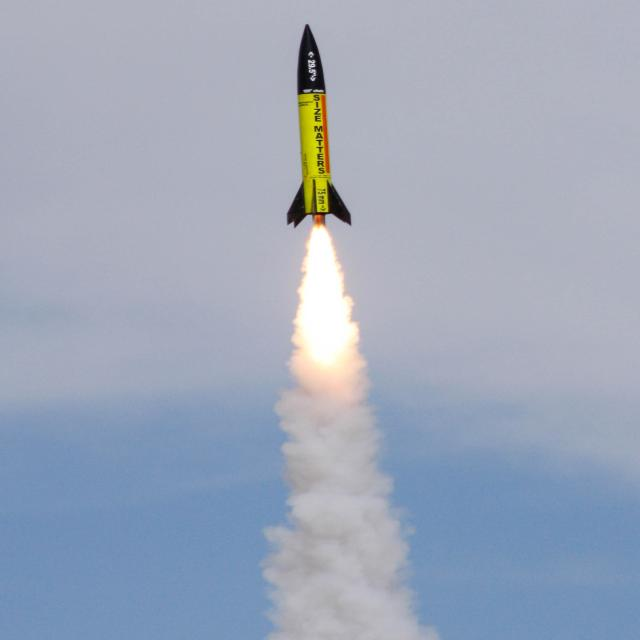Rocket: (286, 22, 354, 228)
